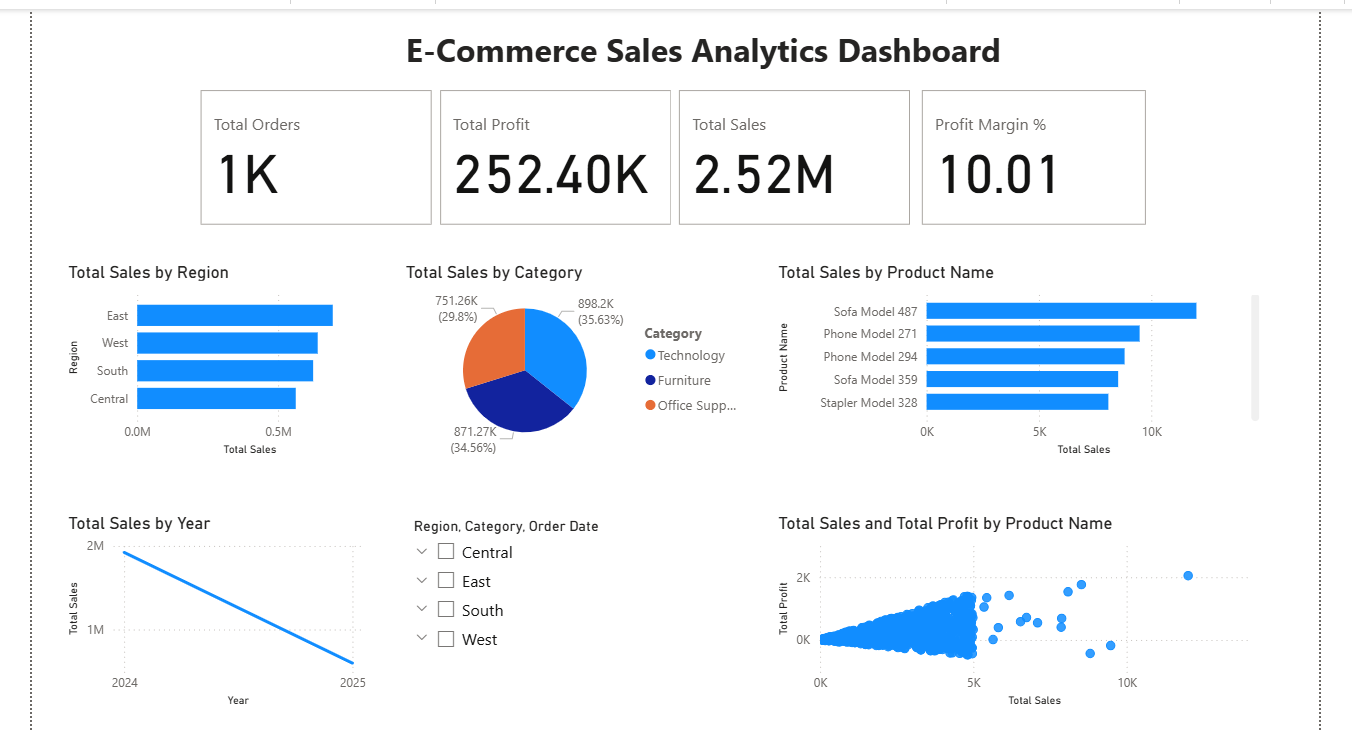

This screenshot's page, from the dashboard's own definition file:
{"tool":"powerbi","page":{"name":"Page 1","canvas":[1280,720],"ordinal":0},"visuals":[{"type":"cardVisual","fields":{"Data":["Ecommerce_Data.Total Orders","Ecommerce_Data.Total Profit","Ecommerce_Data.Total Sales"]},"box":[163,75.9,717.8,144.3],"z":0},{"type":"cardVisual","fields":{"Data":["Ecommerce_Data.Profit Margin %"]},"box":[880.7,75.9,233.9,144.3],"z":1000},{"type":"clusteredBarChart","fields":{"Category":["Ecommerce_Data.Region"],"Y":["Ecommerce_Data.Total Sales"]},"box":[31.1,251.3,317.2,197.8],"z":2000},{"type":"pieChart","fields":{"Category":["Ecommerce_Data.Category"],"Y":["Ecommerce_Data.Total Sales"]},"box":[367,251.3,349.6,197.8],"z":3000},{"type":"clusteredBarChart","fields":{"Category":["Ecommerce_Data.Product Name"],"Y":["Ecommerce_Data.Total Sales"]},"box":[737.7,251.3,488.9,197.8],"z":4000},{"type":"lineChart","fields":{"Category":["Ecommerce_Data.Order Date.Variation.Date Hierarchy.Year","Ecommerce_Data.Order Date.Variation.Date Hierarchy.Quarter","Ecommerce_Data.Order Date.Variation.Date Hierarchy.Month","Ecommerce_Data.Order Date.Variation.Date Hierarchy.Day"],"Y":["Ecommerce_Data.Total Sales"]},"box":[31.1,501.3,306,197.8],"z":5000},{"type":"slicer","fields":{"Values":["Ecommerce_Data.Region","Ecommerce_Data.Category","Ecommerce_Data.Order Date"]},"box":[367,501.3,256.3,197.8],"z":6000},{"type":"scatterChart","fields":{"X":["Ecommerce_Data.Total Sales"],"Y":["Ecommerce_Data.Total Profit"],"Category":["Ecommerce_Data.Product Name"]},"box":[737.7,501.3,488.9,197.8],"z":7000},{"type":"textbox","box":[367,13.7,614.5,62.2],"z":8000}]}

Visuals, with their boxes on the page's 1280x720 design canvas (x1, y1, x2, y2). These are canvas units, not pixel positions in the 1352x732 screenshot, which may show the page scaled, cropped or inside an application window:
cardVisual - Ecommerce_Data.Total Orders x Ecommerce_Data.Total Profit: l=163, t=76, r=881, b=220
cardVisual - Ecommerce_Data.Profit Margin %: l=881, t=76, r=1115, b=220
clusteredBarChart - Ecommerce_Data.Region x Ecommerce_Data.Total Sales: l=31, t=251, r=348, b=449
pieChart - Ecommerce_Data.Category x Ecommerce_Data.Total Sales: l=367, t=251, r=717, b=449
clusteredBarChart - Ecommerce_Data.Product Name x Ecommerce_Data.Total Sales: l=738, t=251, r=1227, b=449
lineChart - Ecommerce_Data.Order Date.Variation.Date Hierarchy.Year x Ecommerce_Data.Order Date.Variation.Date Hierarchy.Quarter: l=31, t=501, r=337, b=699
slicer - Ecommerce_Data.Region x Ecommerce_Data.Category: l=367, t=501, r=623, b=699
scatterChart - Ecommerce_Data.Total Sales x Ecommerce_Data.Total Profit: l=738, t=501, r=1227, b=699
textbox: l=367, t=14, r=982, b=76
